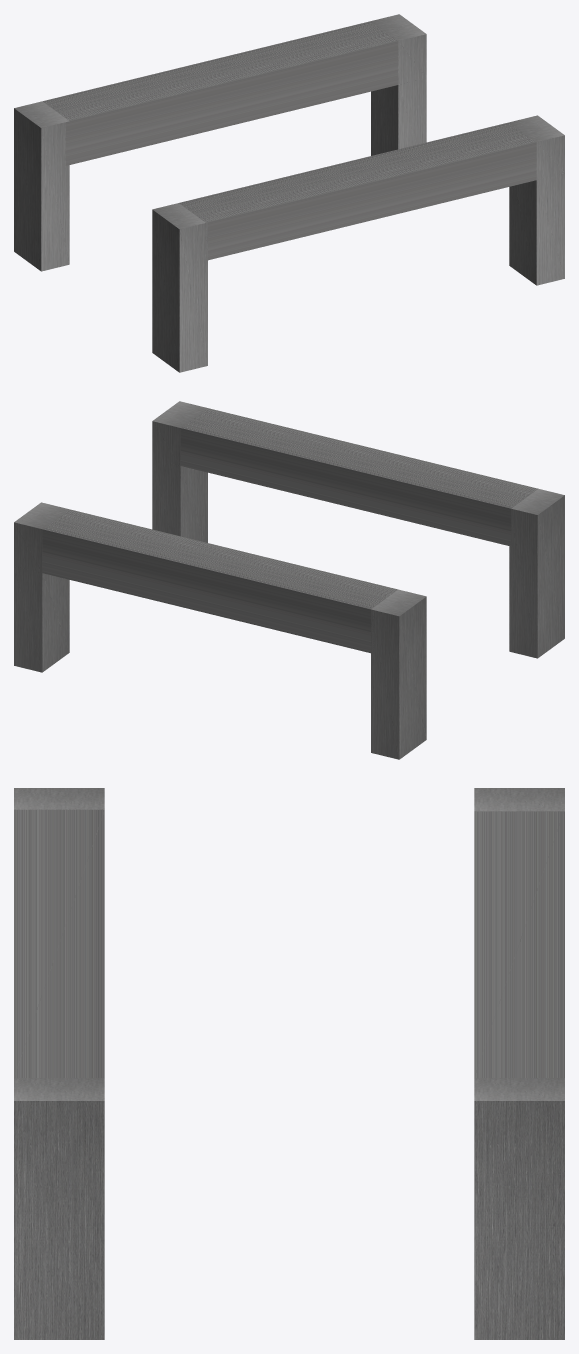
The model's file is oldschoolPatasMetal.glb.
3 views of the same model, one above another, from view 1: azimuth 30°, elevation 25°; view 2: azimuth 150°, elevation 25°; view 3: azimuth 270°, elevation 25° (orthographic). The views are drawn at different scales.
Parts seen in each view (by area): view 1: Cube.004, Cube.001; view 2: Cube.004, Cube.001; view 3: Cube.001, Cube.004.
Boxes of the visible parts, x1,y1,x2,y2 form: Cube.004: (14, 14, 426, 271); Cube.001: (152, 115, 564, 372); Cube.004: (14, 502, 426, 759); Cube.001: (152, 401, 564, 658); Cube.001: (14, 788, 104, 1339); Cube.004: (474, 788, 564, 1339).
Bounding box in the file's own units: 1.41 × 0.5016 × 1.05.
2 materials, 2 textured.
